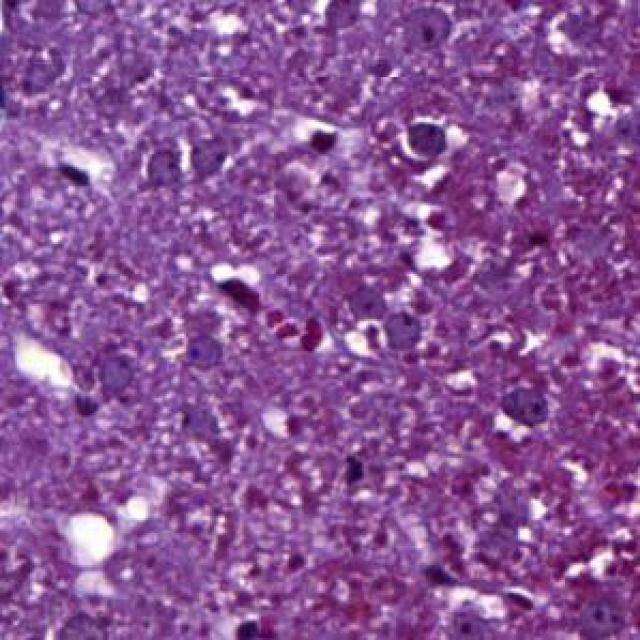inflammation: (392, 114, 482, 169), (205, 252, 272, 316), (52, 148, 125, 203)
